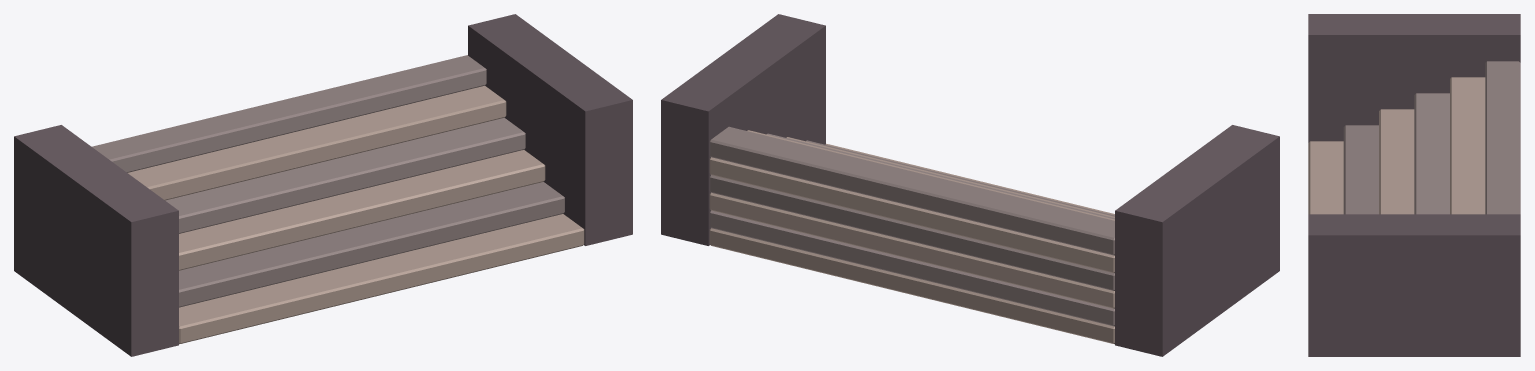
Rendered from Stairs_Wide.fbx.
3 views of the same model, side by side, from view 1: azimuth 30°, elevation 25°; view 2: azimuth 150°, elevation 25°; view 3: azimuth 270°, elevation 25° (orthographic). The views are drawn at different scales.
Parts seen in each view (by area): view 1: Stairs_Wide; view 2: Stairs_Wide; view 3: Stairs_Wide.
Part boxes in pixels (bbox=[...]): Stairs_Wide: bbox=[14, 14, 632, 356]; Stairs_Wide: bbox=[661, 14, 1279, 356]; Stairs_Wide: bbox=[1308, 14, 1520, 356].
Bounding box in the file's own units: 7.4 × 1.9 × 3.
